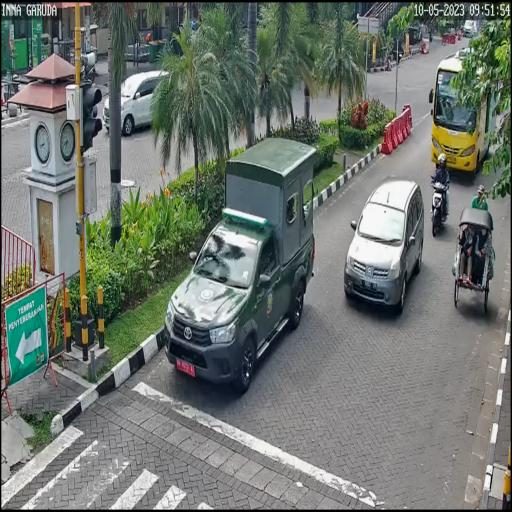mobil: (163, 133, 318, 398), (343, 172, 423, 314), (426, 56, 495, 173)
motor: (429, 172, 452, 241)
